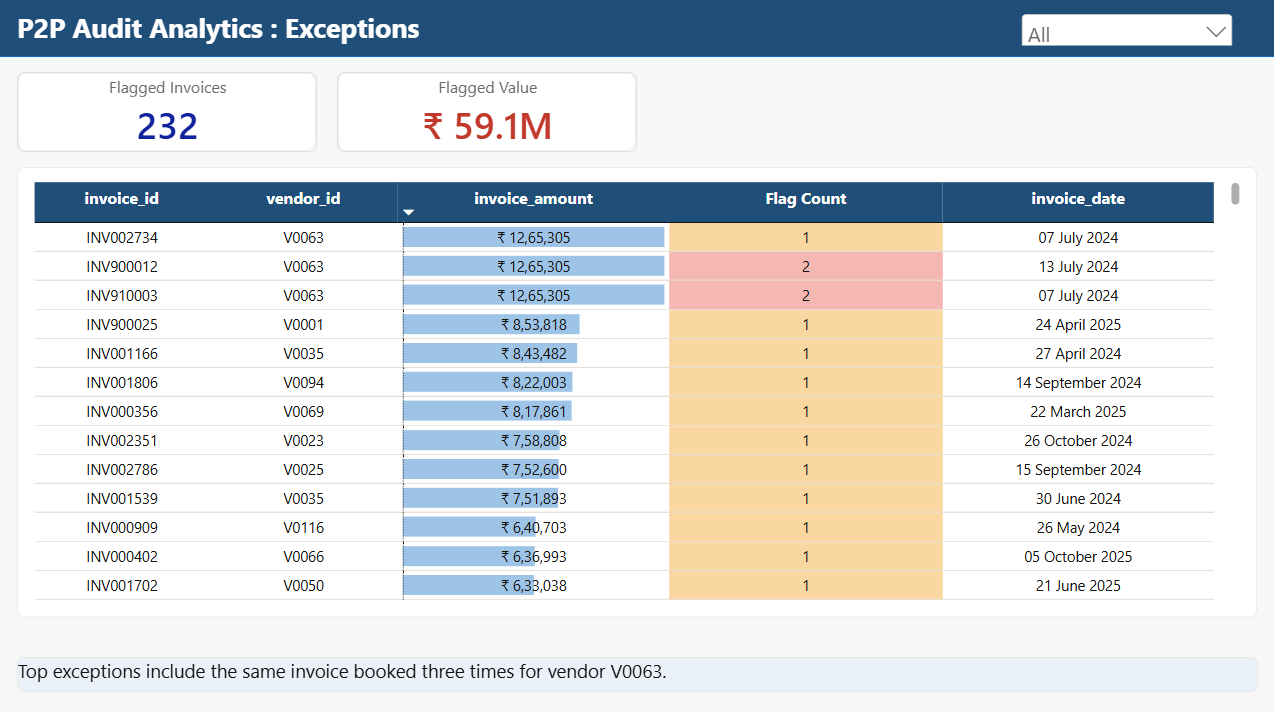

What the dashboard file says about the page in this screenshot:
{"tool":"powerbi","page":{"name":"Exceptions","canvas":[1280,720],"ordinal":1},"visuals":[{"type":"shape","box":[0,0,1280,60],"z":0},{"type":"tableEx","fields":{"Values":["invoice_flags.invoice_id","invoice_flags.vendor_id","invoice_flags.invoice_amount","invoice_flags.Flag Count","invoice_flags.invoice_date"]},"box":[20.6,170.2,1240,450.1],"z":1000},{"type":"slicer","fields":{"Values":["vendors.category"]},"box":[1020,12.5,220,36],"z":3000},{"type":"textbox","box":[20,12,967,57],"z":4000},{"type":"cardVisual","fields":{"Data":["invoice_flags.Flagged Invoices"]},"box":[20,75,300,80],"z":4001},{"type":"cardVisual","fields":{"Data":["invoice_flags.Flagged Value"]},"box":[340,75,300,80],"z":4002},{"type":"textbox","box":[20.6,660,1240.5,35],"z":4003}]}

Visuals, with their boxes in screenshot pixels (x1, y1, x2, y2), scaled from the page's 1280x720 canvas onto the 1274x712 screenshot:
shape: 0/0/1273/59
tableEx - invoice_flags.invoice_id x invoice_flags.vendor_id: 21/168/1255/613
slicer - vendors.category: 1015/12/1234/48
textbox: 20/12/982/68
cardVisual - invoice_flags.Flagged Invoices: 20/74/318/153
cardVisual - invoice_flags.Flagged Value: 338/74/637/153
textbox: 21/653/1255/687
